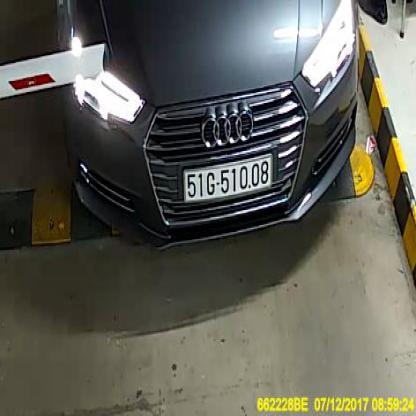biensoxe: (183, 154, 272, 204)
